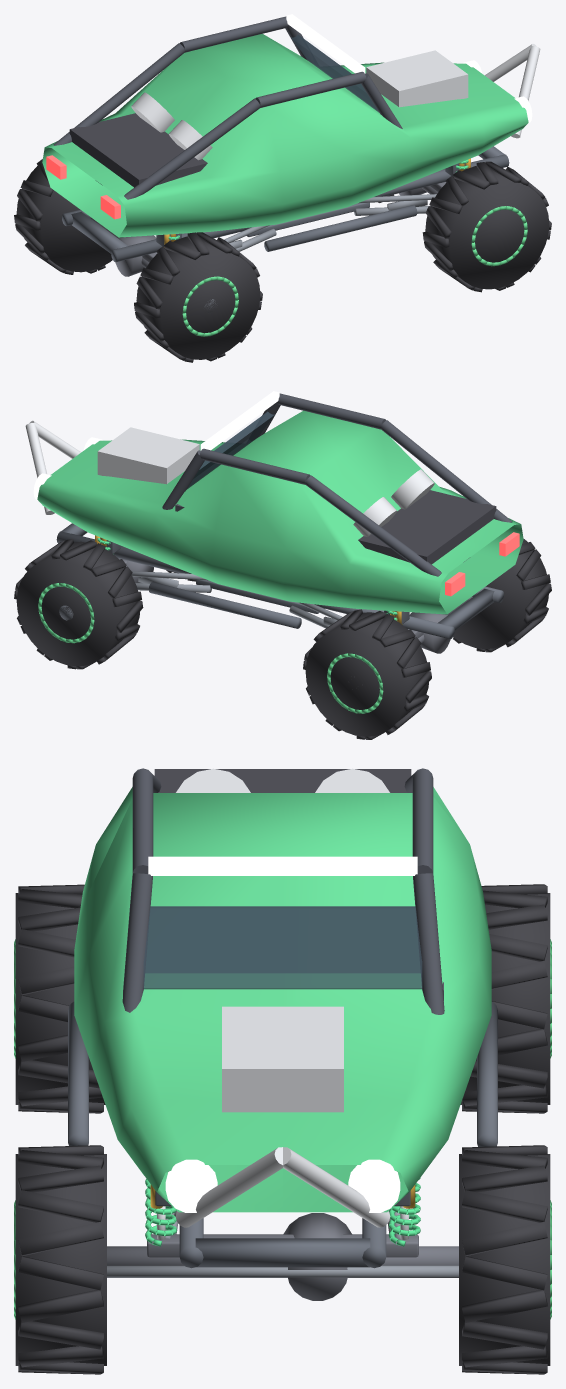
The model's file is jax_bouncer_02.glb.
The picture shows the model from 3 angles, top to bottom: view 1: azimuth 30°, elevation 25°; view 2: azimuth 150°, elevation 25°; view 3: azimuth 270°, elevation 25°; orthographic projection. The views are drawn at different scales.
Visible parts, largest first — view 1: Body_Shell, Wheel_RR, Wheel_FR, Chassis_Frame, Wheel_RL, ControlArm_FR, Axle_Rear, TrailingArm_RR; view 2: Body_Shell, Wheel_RL, Wheel_FL, Chassis_Frame, Wheel_RR, ControlArm_FL, Axle_Rear, TrailingArm_RL; view 3: Body_Shell, Wheel_FL, Wheel_FR, Wheel_RL, Wheel_RR, Chassis_Frame, Axle_Front, Spring_FR, Spring_FL.
Boxes of the visible parts, bbox=[...] form: Body_Shell: bbox=[42, 14, 540, 237]; Wheel_RR: bbox=[134, 232, 262, 362]; Wheel_FR: bbox=[422, 161, 551, 292]; Chassis_Frame: bbox=[62, 146, 509, 262]; Wheel_RL: bbox=[14, 159, 112, 274]; ControlArm_FR: bbox=[354, 194, 436, 215]; Axle_Rear: bbox=[93, 219, 157, 276]; TrailingArm_RR: bbox=[224, 225, 276, 251]; Body_Shell: bbox=[25, 391, 523, 614]; Wheel_RL: bbox=[303, 609, 431, 739]; Wheel_FL: bbox=[14, 539, 143, 669]; Chassis_Frame: bbox=[56, 523, 503, 638]; Wheel_RR: bbox=[453, 539, 551, 652]; ControlArm_FL: bbox=[131, 571, 211, 592]; Axle_Rear: bbox=[408, 596, 472, 653]; TrailingArm_RL: bbox=[289, 602, 342, 628]; Body_Shell: bbox=[74, 768, 491, 1227]; Wheel_FL: bbox=[459, 1145, 551, 1374]; Wheel_FR: bbox=[14, 1145, 106, 1374]; Wheel_RL: bbox=[460, 884, 551, 1113]; Wheel_RR: bbox=[14, 884, 105, 1113]; Chassis_Frame: bbox=[68, 1001, 497, 1268]; Axle_Front: bbox=[107, 1213, 458, 1300]; Spring_FR: bbox=[145, 1179, 176, 1246]; Spring_FL: bbox=[388, 1178, 420, 1246].
Size of the model in its own units: 4.51 by 2.09 by 2.47.
